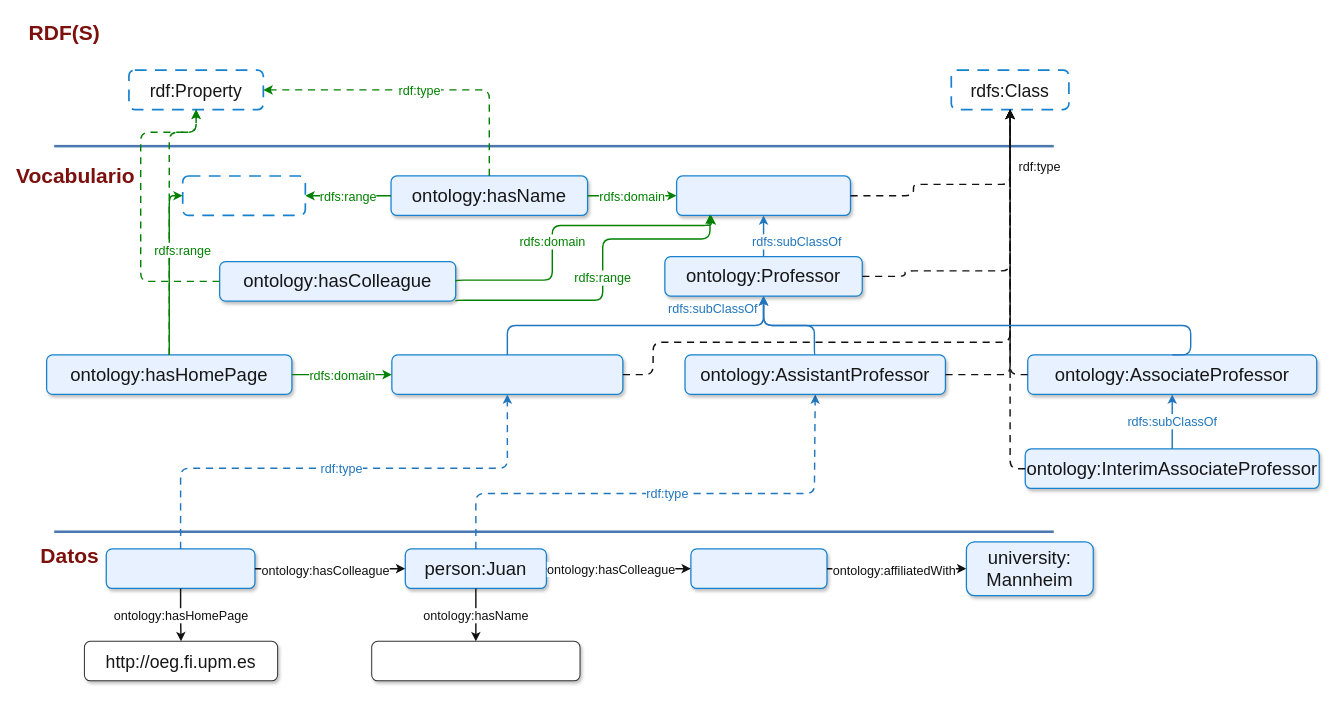
The diagram is 1339 pixels wide and 701 high, and some of its shapes have lost their labels. The centre of each missing label's shape, as x and y in pixels:
"Juan Cano de Benito": [476,662]
ontology:FullProfessor: [507,376]
ontology:Person: [764,197]
person:Raul: [181,570]
person:Sven: [759,570]
rdfs:Literal: [243,195]
